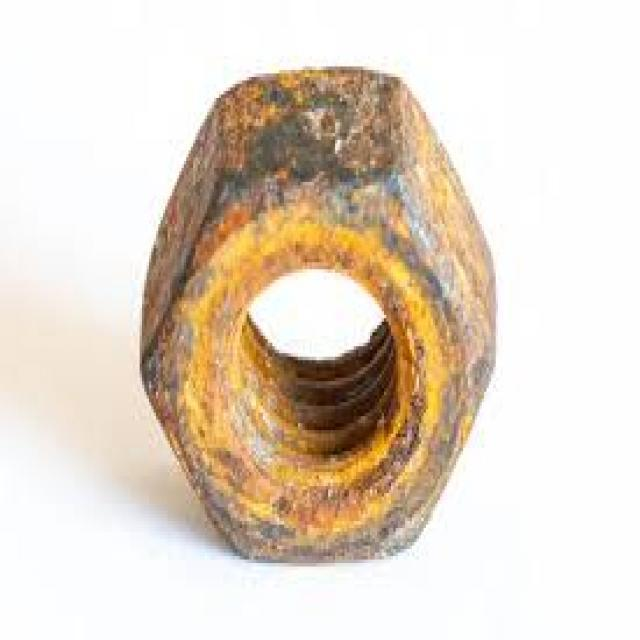nut: (141, 76, 496, 565)
